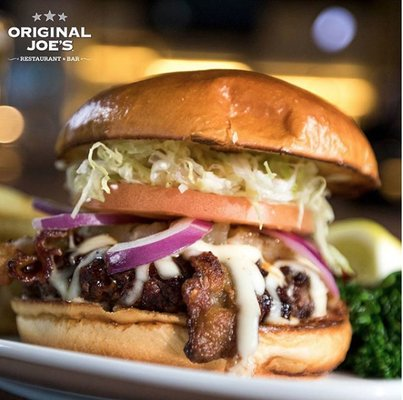curry: (337, 272, 401, 378)
soup: (2, 65, 380, 378), (49, 69, 374, 236)
